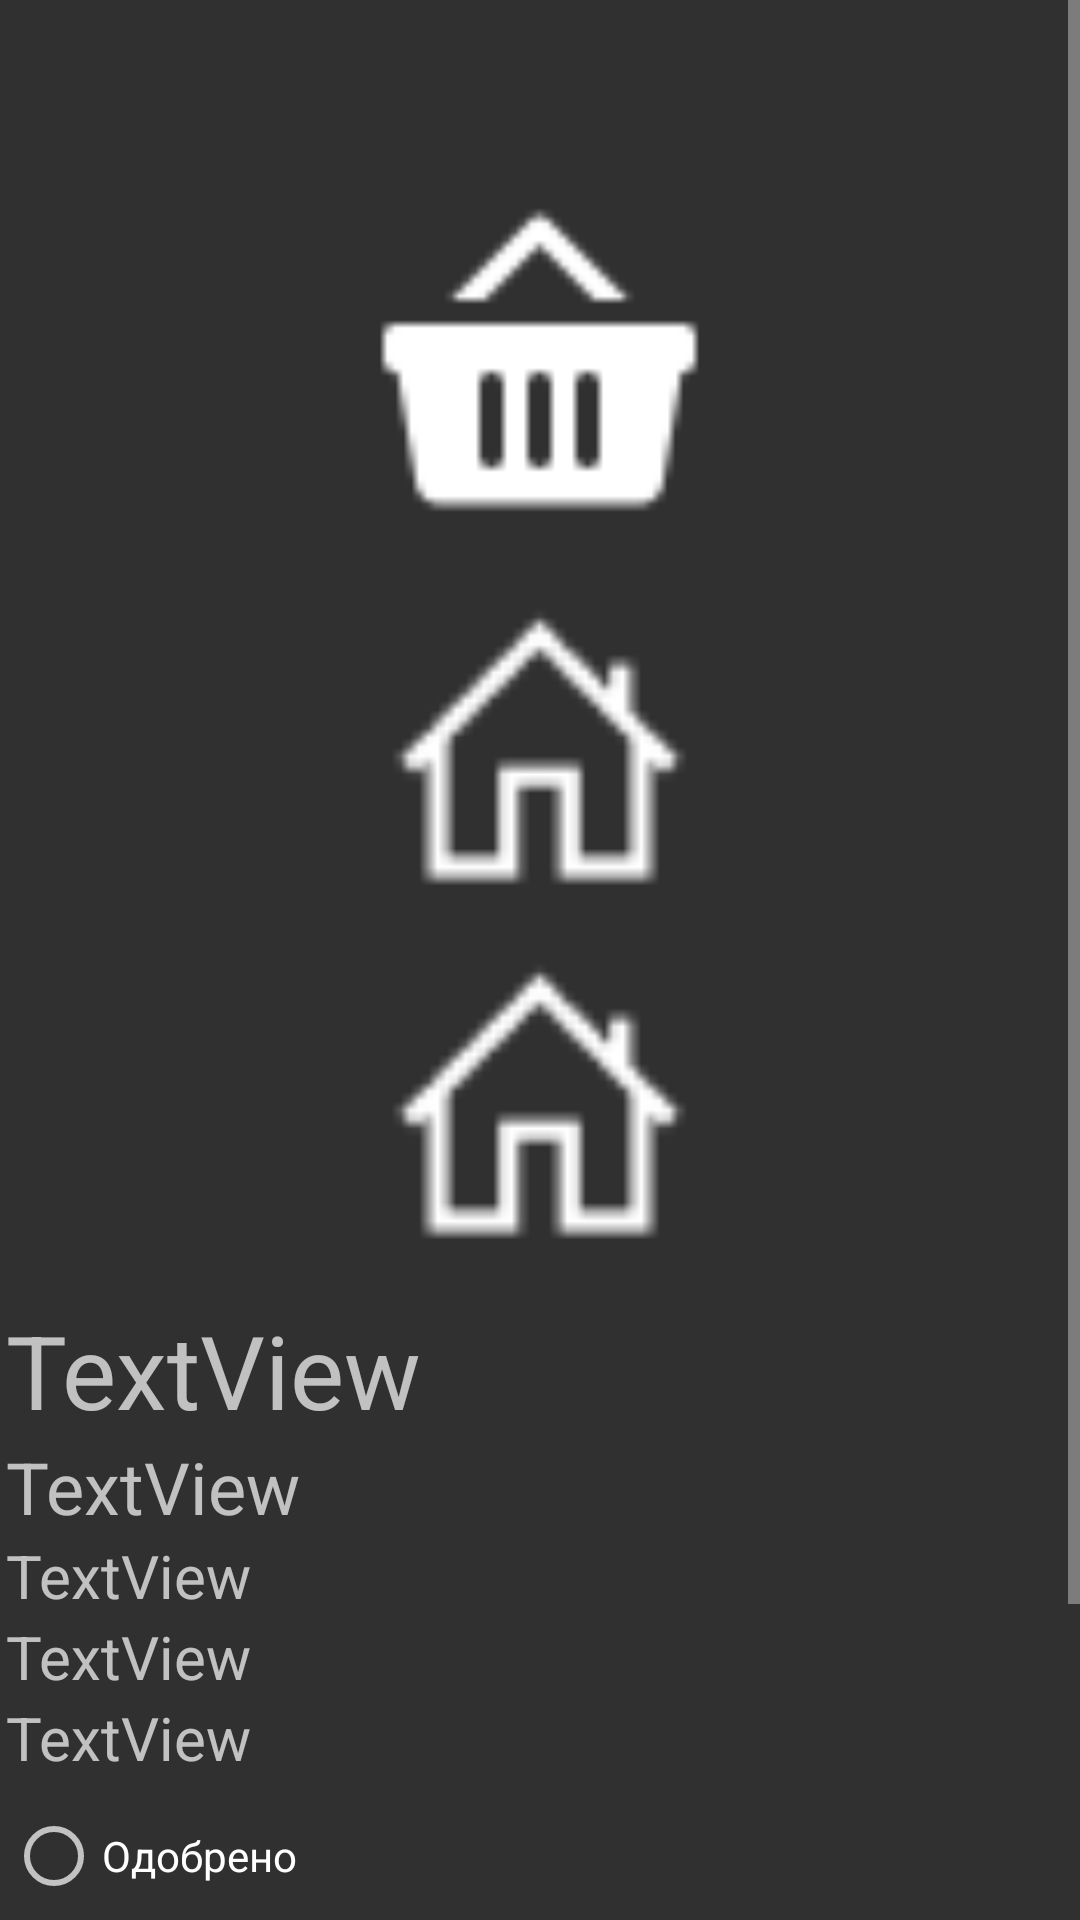

Icons on this 1080 × 1920 Android screen, each with the point to tap as [x,y]:
basket: [539,360]
home: [539,750], [539,1104]
